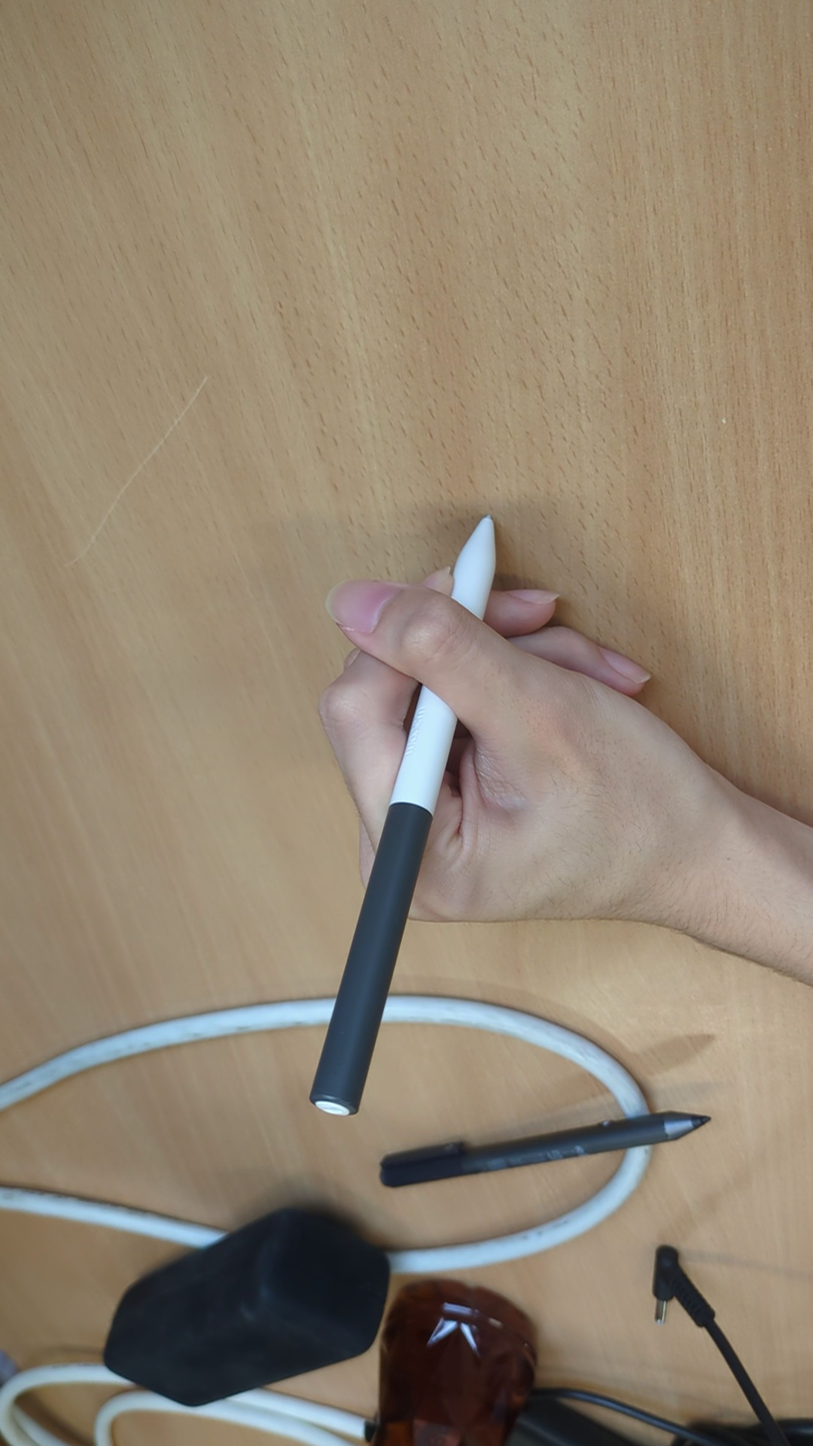pen: (307, 509, 503, 1119)
tip: (475, 508, 499, 531)
